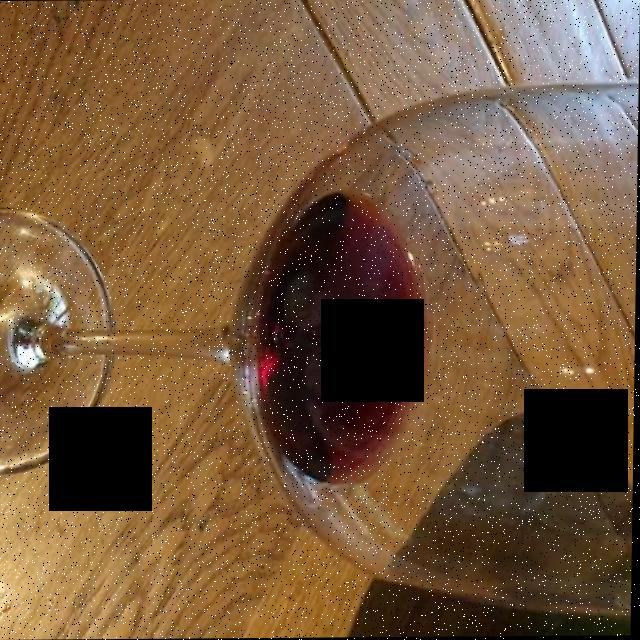wine-red: (258, 197, 425, 475)
